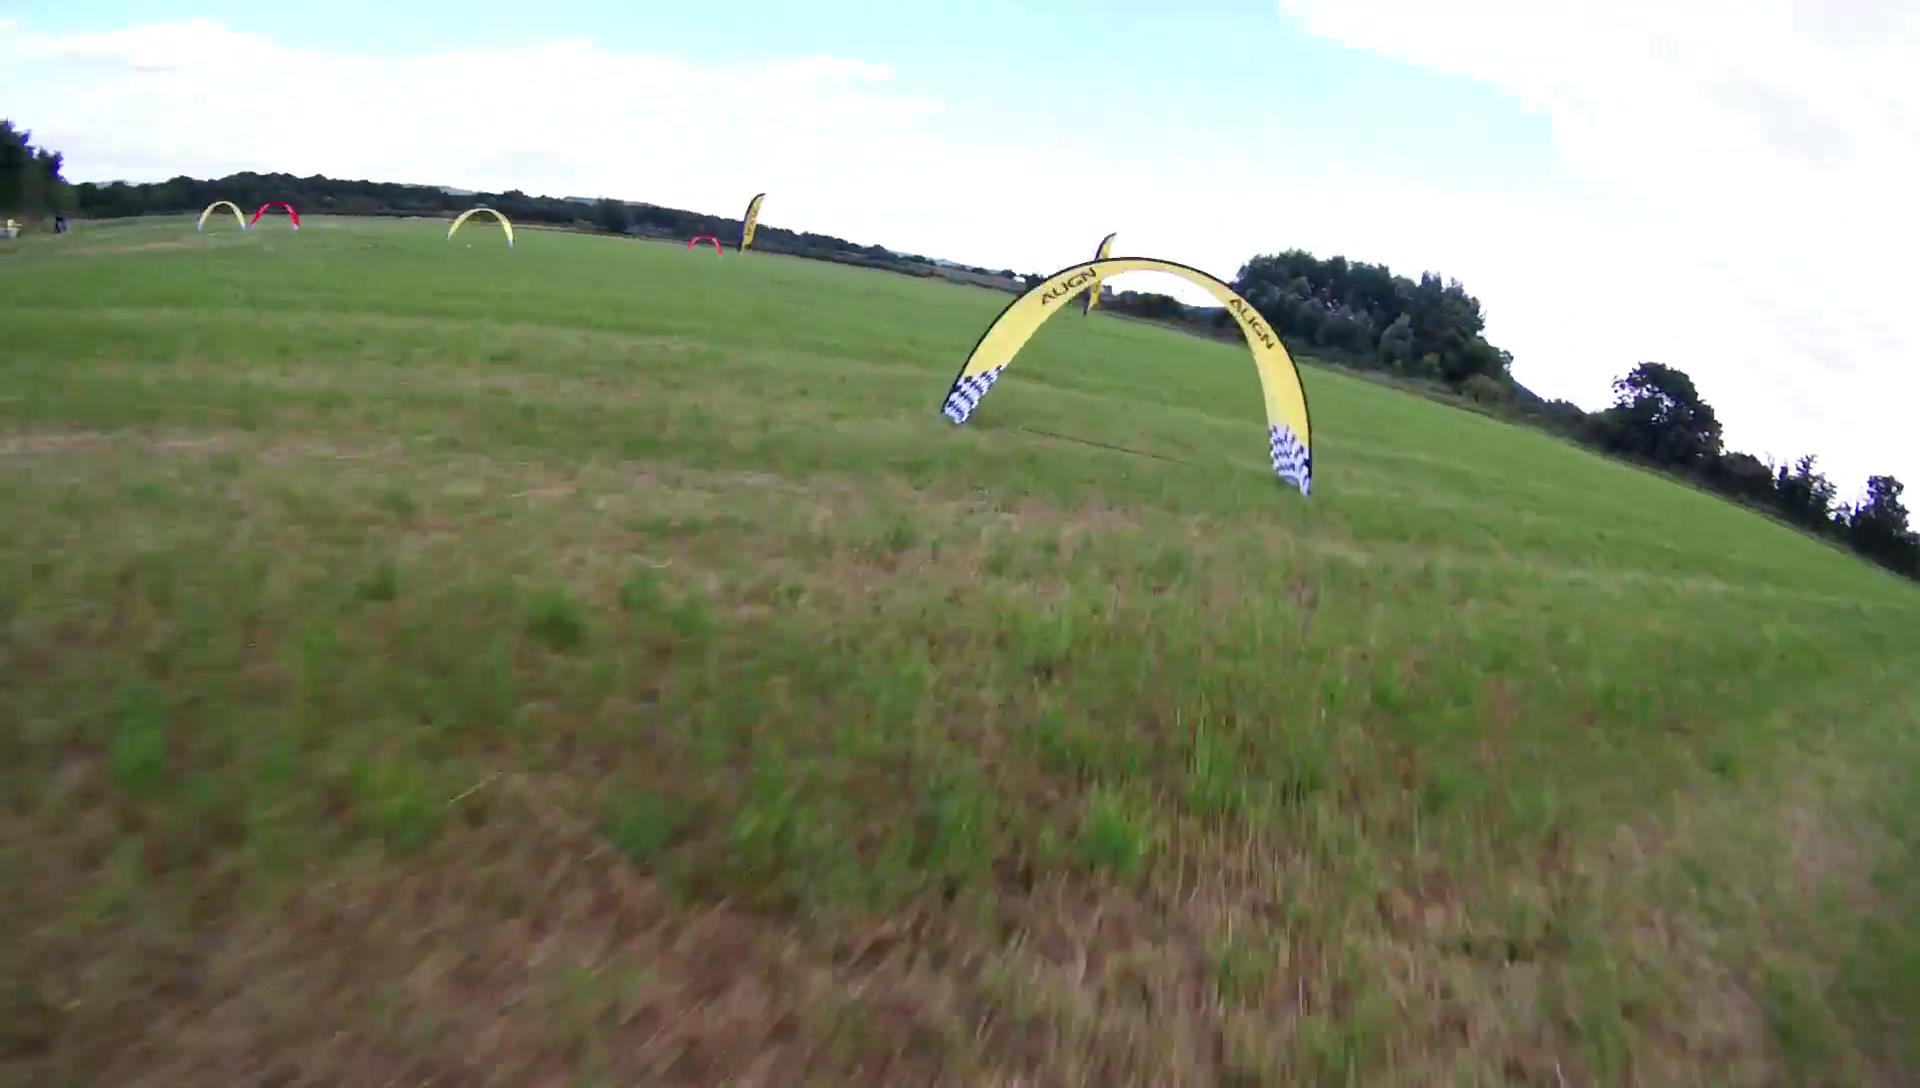gate: (936, 255, 1317, 499), (446, 204, 517, 248), (195, 196, 249, 233), (248, 199, 305, 232), (684, 232, 727, 257)
